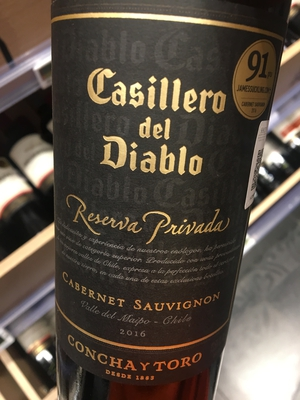casillero del diablo reserva privada cabernet sauvignon: (44, 5, 288, 400)
